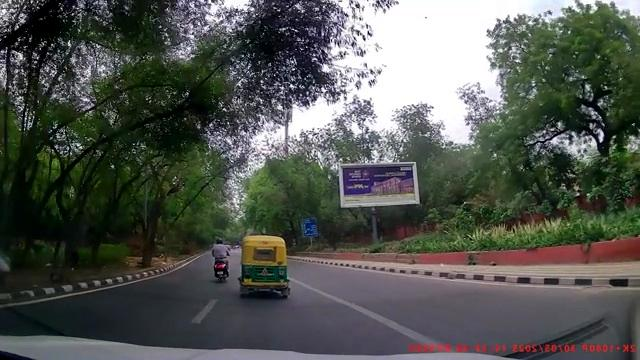motorcycle_with_helmet: (211, 237, 231, 283)
